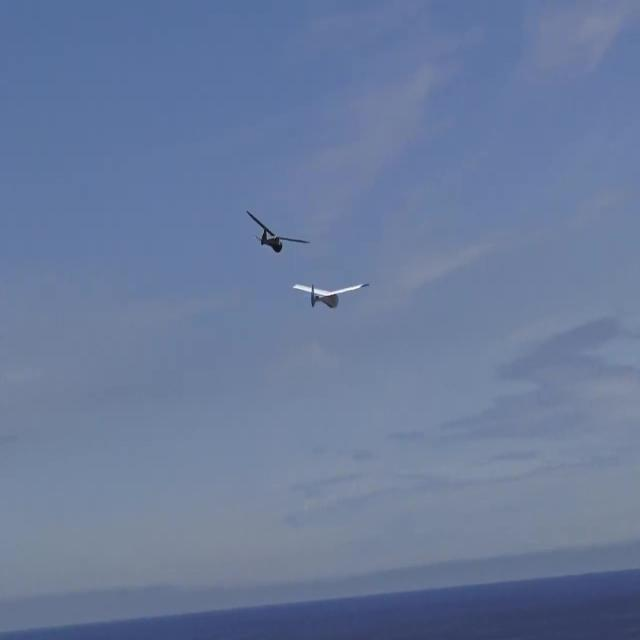iha: (318, 281, 331, 312), (278, 208, 279, 254)
